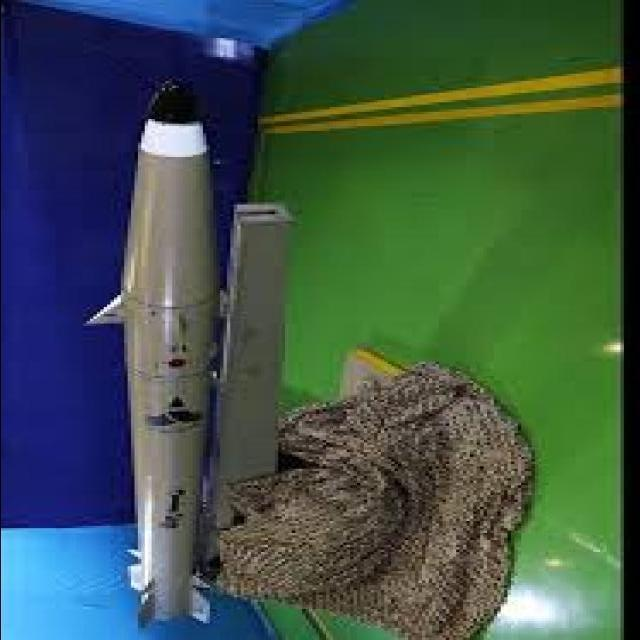missile: (82, 78, 222, 627)
